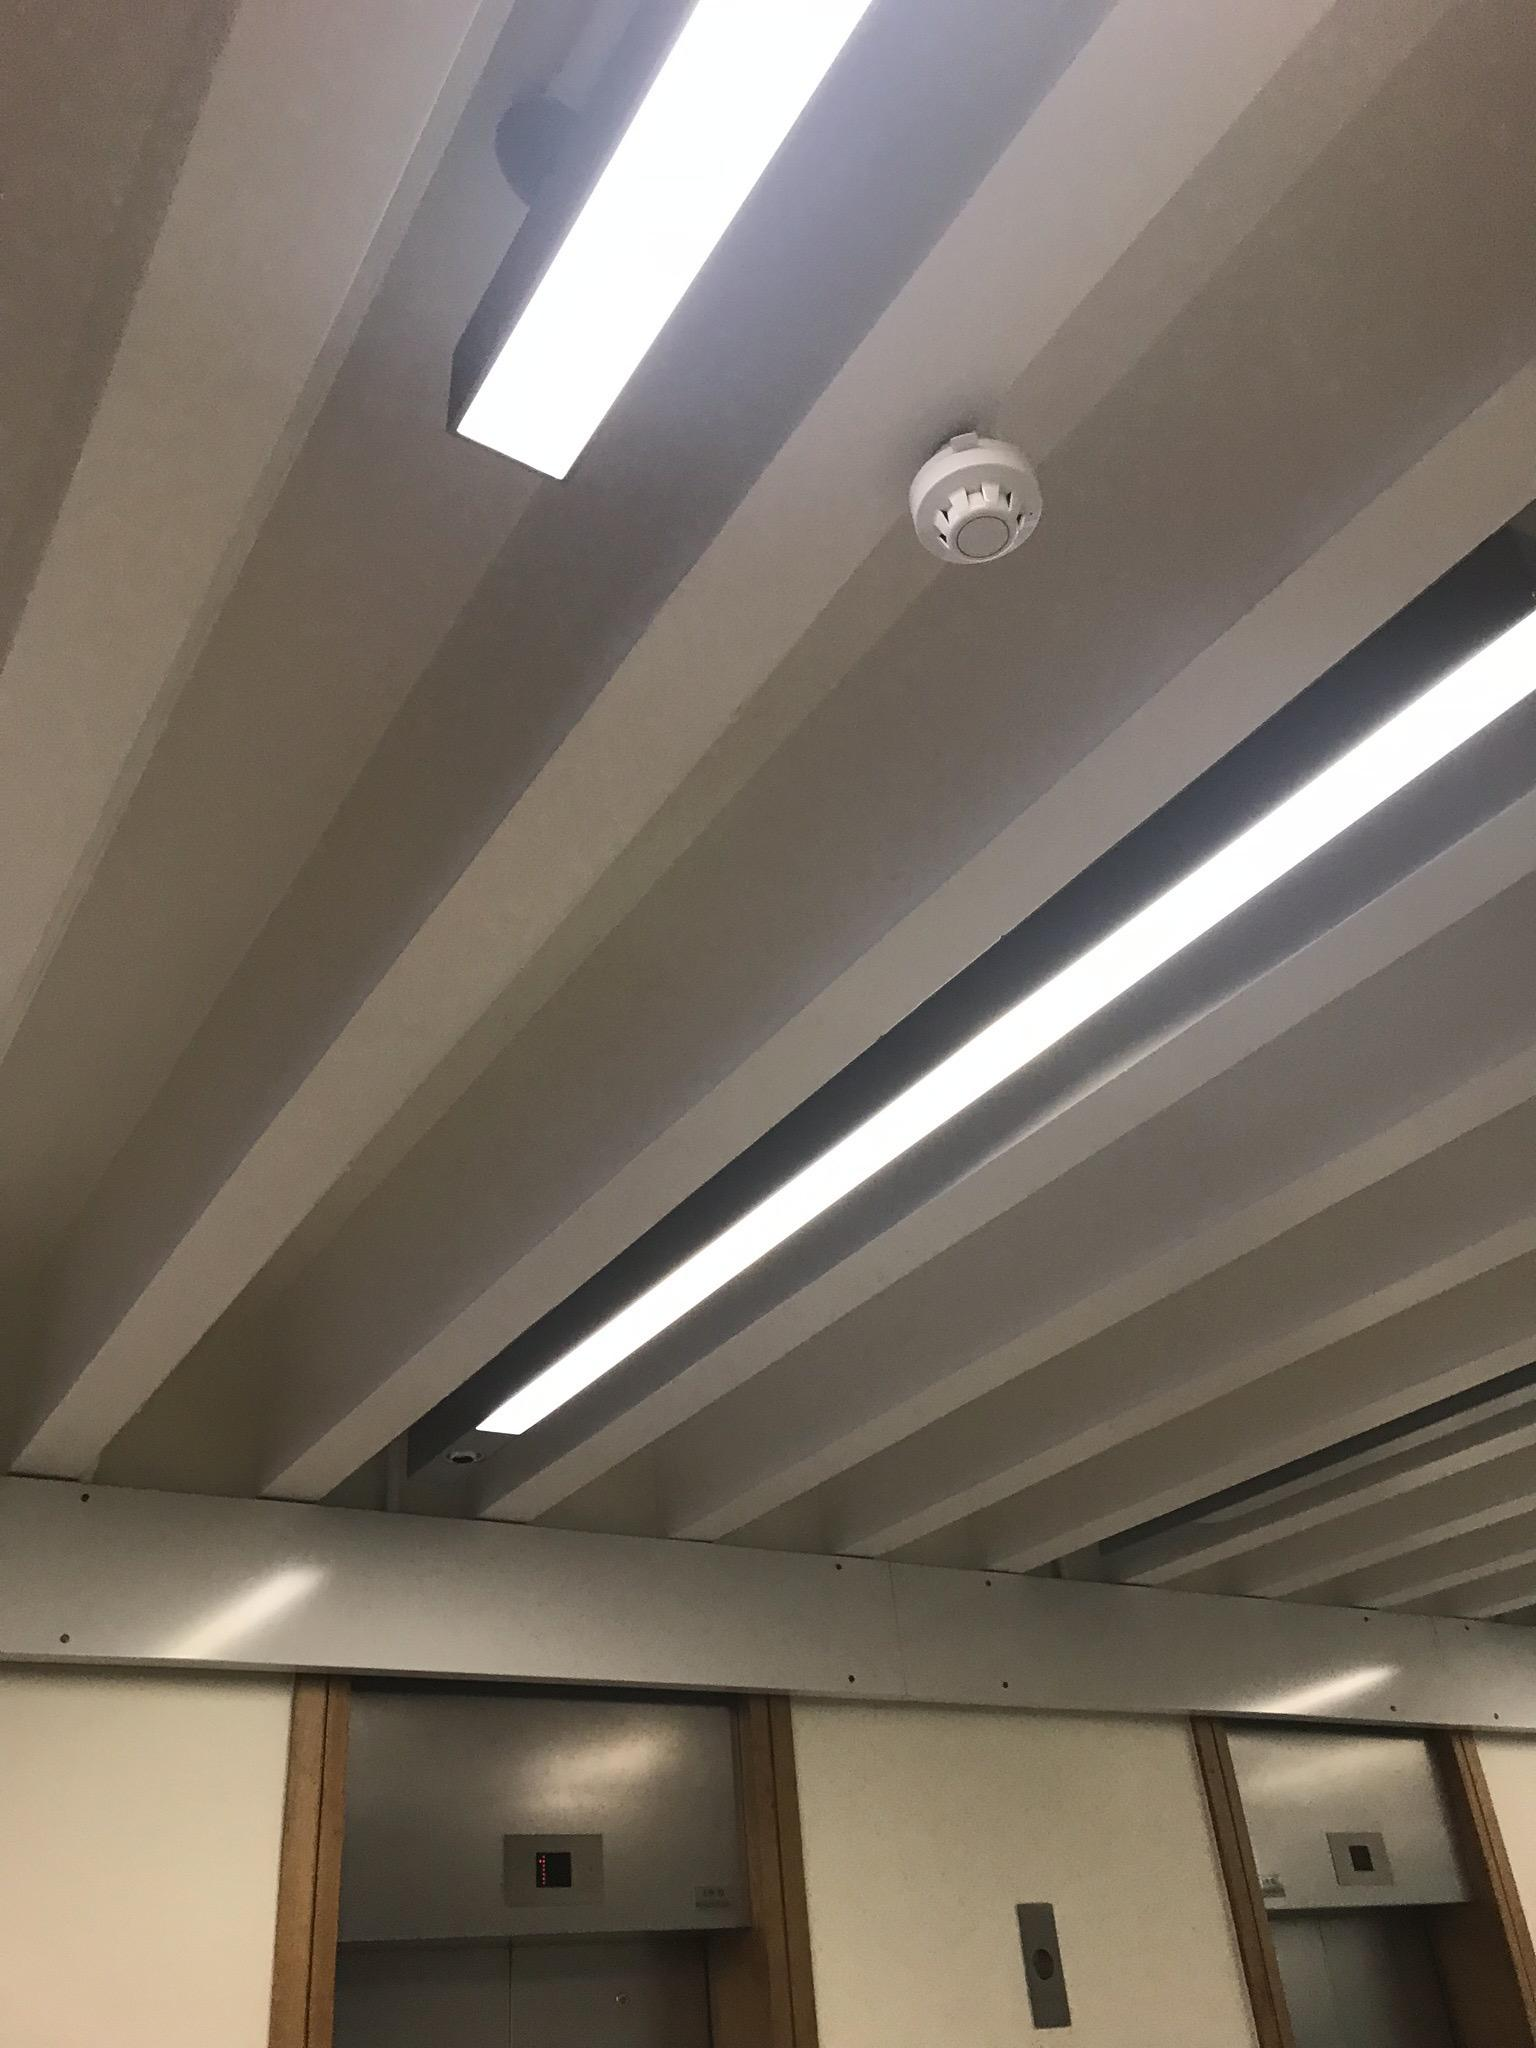detector: (908, 431, 1044, 566)
